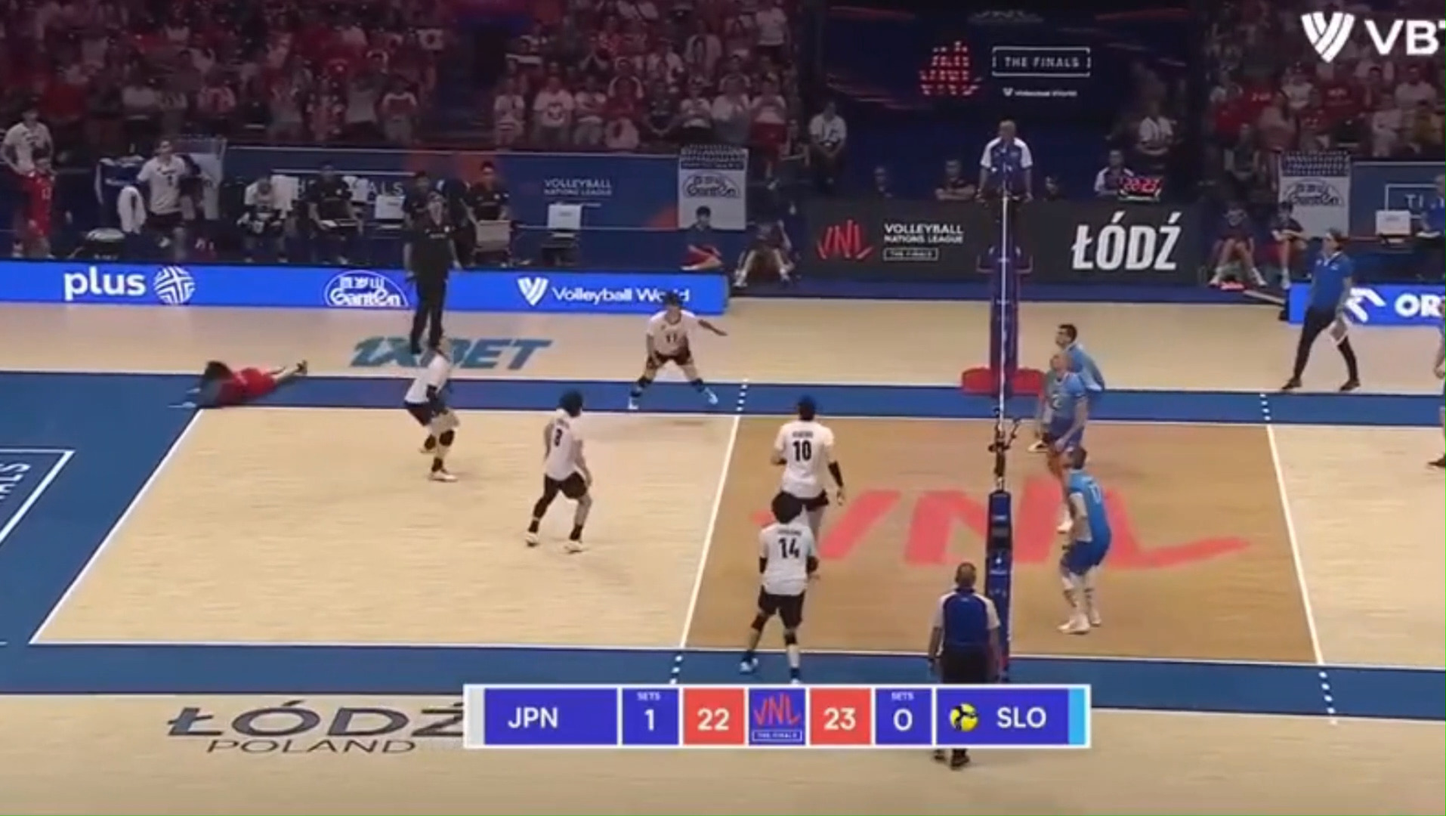player: (1059, 440, 1112, 633), (1042, 353, 1087, 452), (1055, 323, 1106, 398), (1433, 323, 1445, 396), (1431, 458, 1445, 466), (1443, 409, 1445, 422)
player 1: (740, 493, 817, 680), (630, 292, 726, 410), (527, 390, 592, 552), (771, 397, 845, 537), (403, 341, 459, 481), (193, 360, 307, 407)
referee: (1282, 230, 1359, 391), (403, 191, 459, 351), (928, 562, 1001, 684), (978, 120, 1033, 274)
